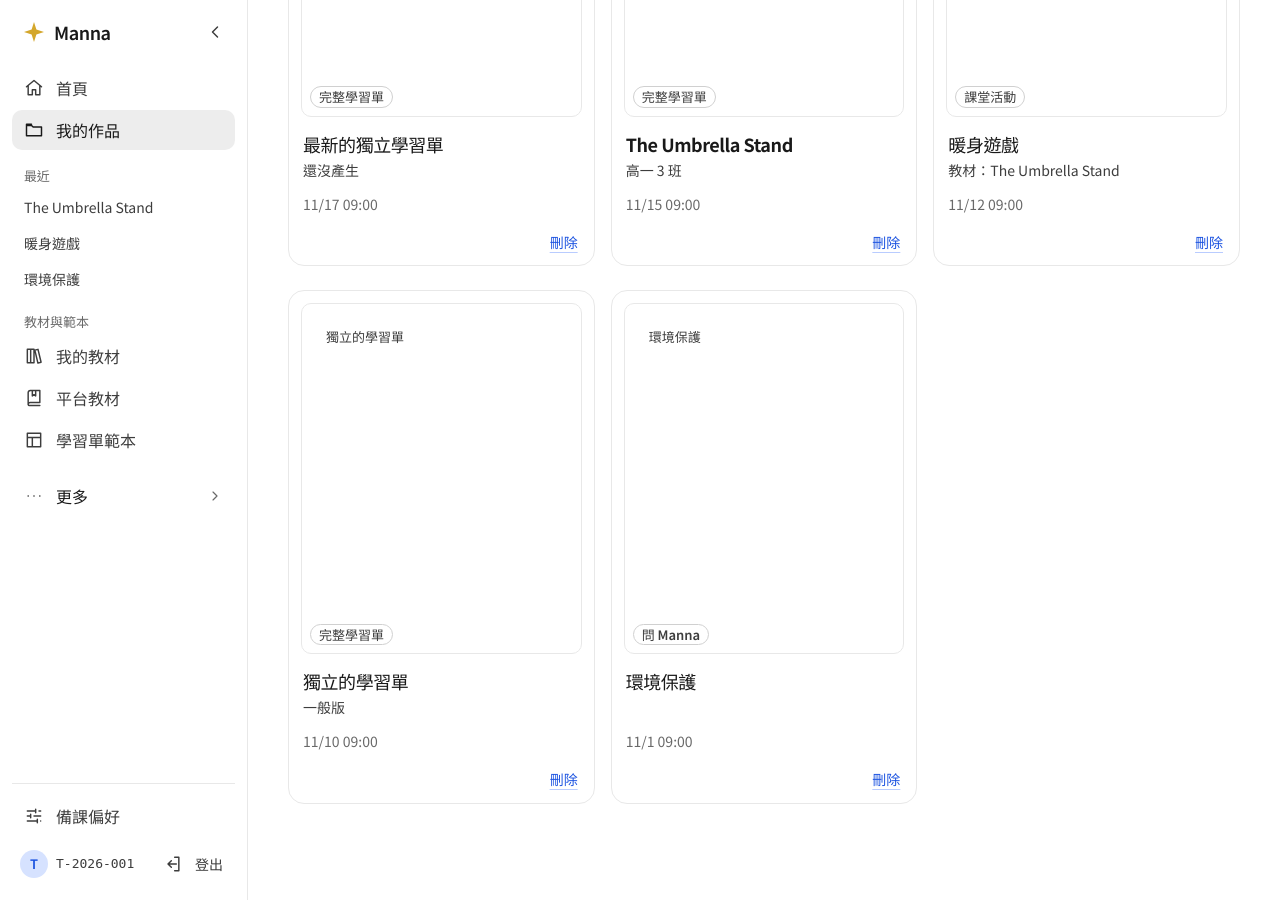
Test case: 我的作品 › deletes a standalone worksheet after a confirmation
(page scrolled)
Click the button with aria-label "刪除 獨立的學習單" at (564, 780), box [550,769,578,791]
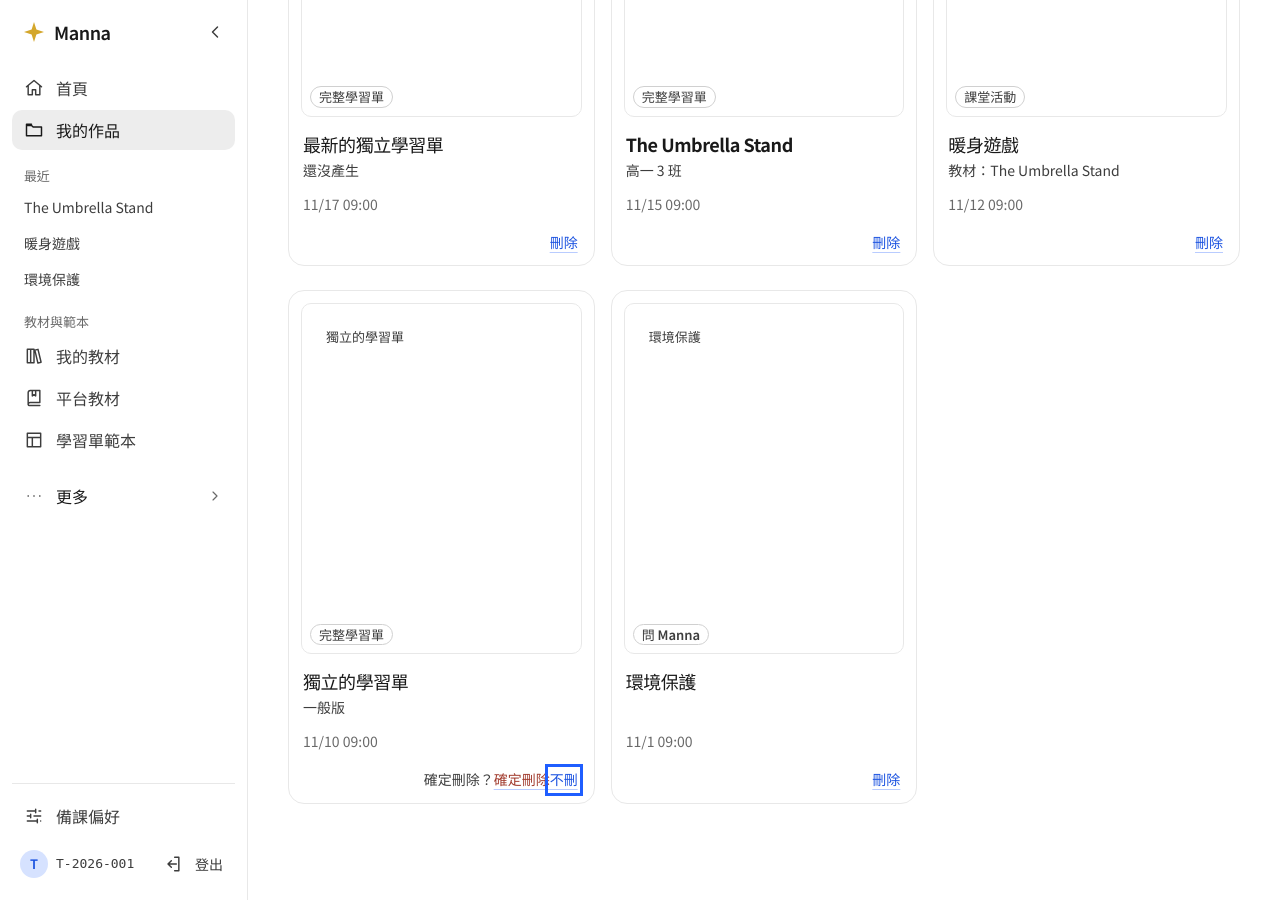
Now the text "確定刪除？" is shown, box [424,769,494,789]
Click the button "不刪" at (564, 780), box [550,769,578,791]
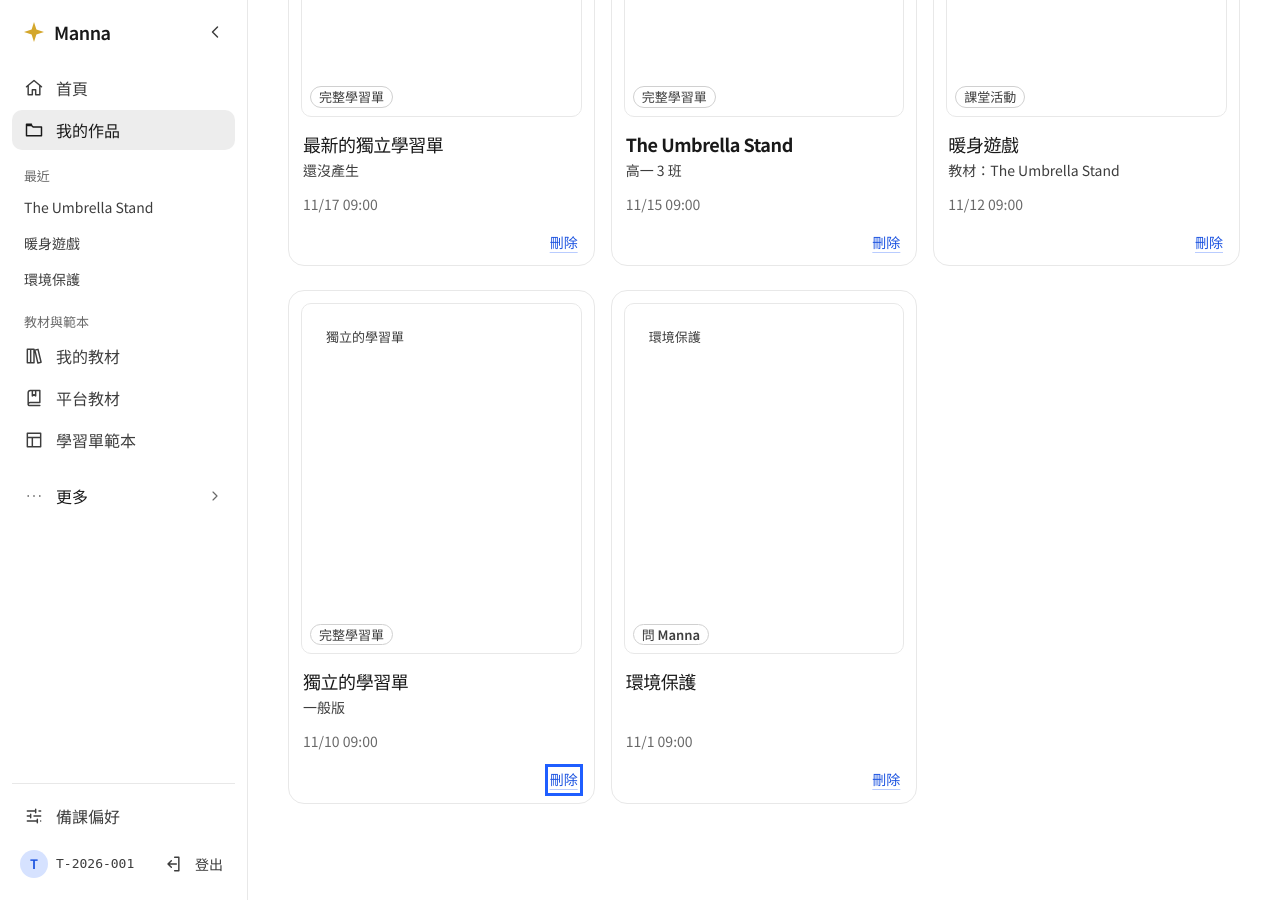
Click the button with aria-label "刪除 獨立的學習單" at (564, 780), box [550,769,578,791]
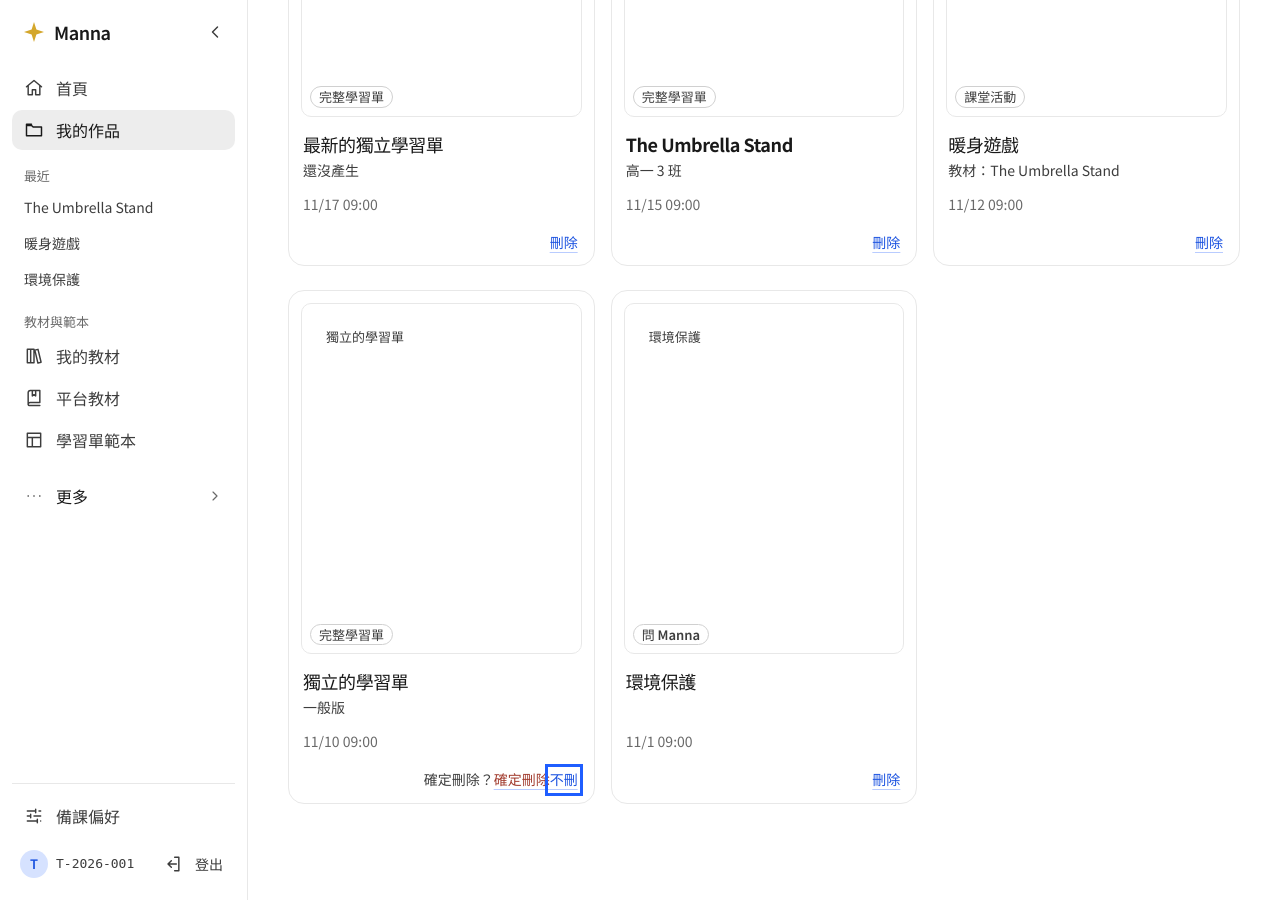
Click the button "確定刪除" at (522, 780), box [494,769,550,791]
(page scrolled)
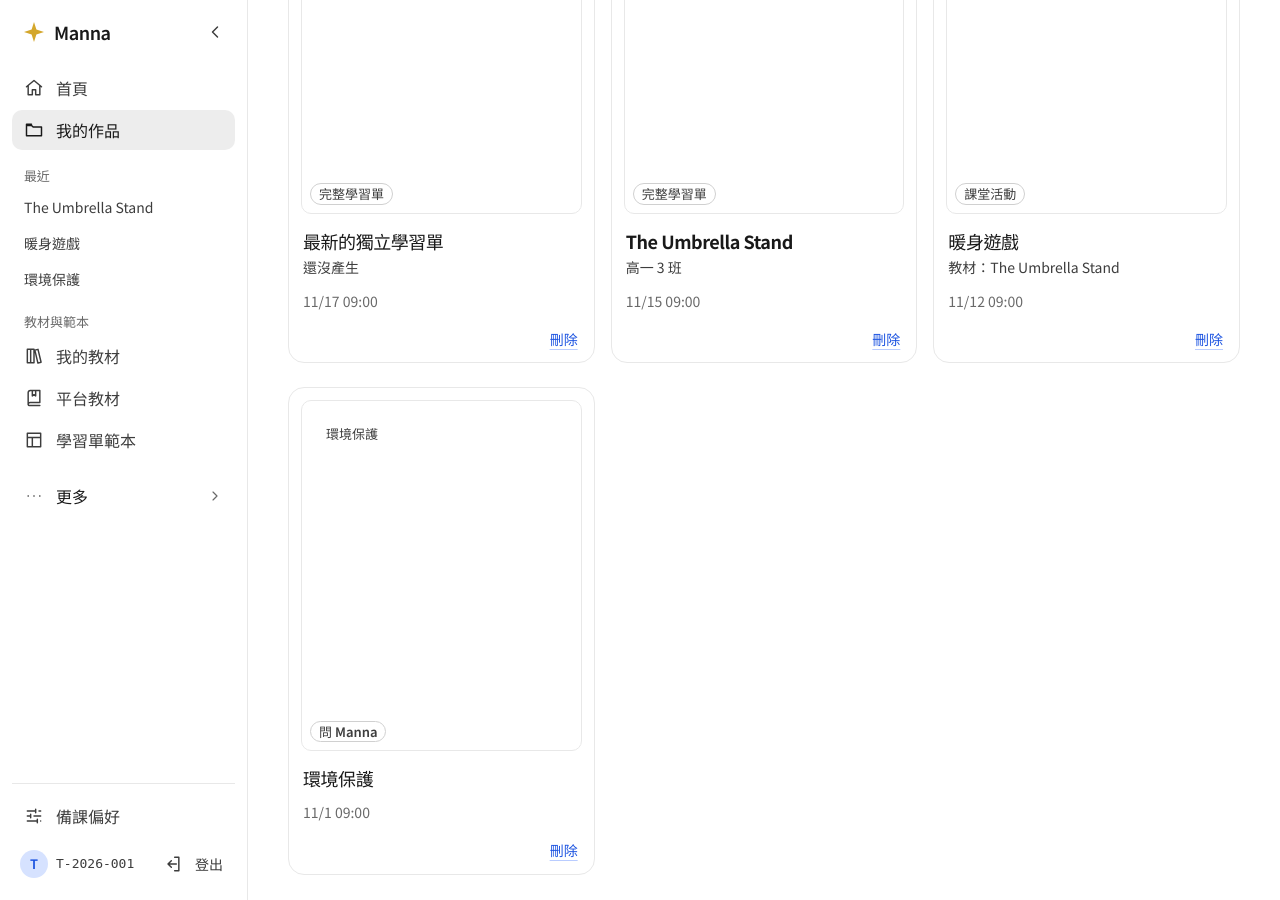
Now the link "獨立的學習單" is gone
